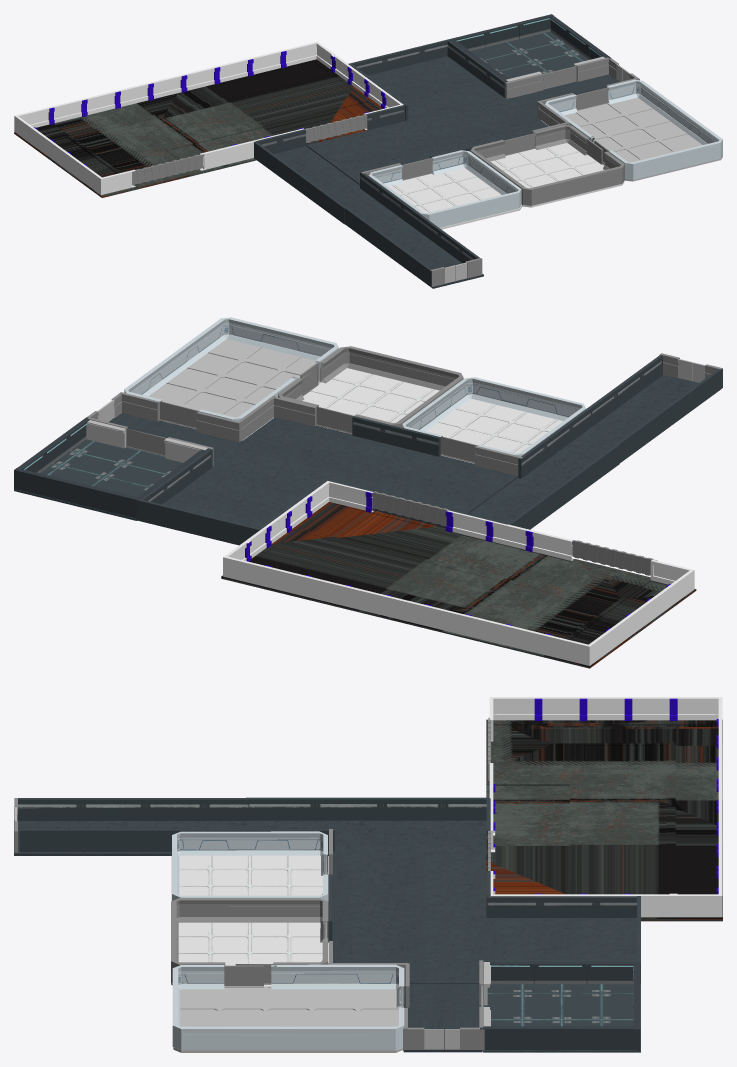
Rendered from Level_Full 2.FBX.
The picture shows the model from 3 angles, top to bottom: view 1: azimuth 30°, elevation 25°; view 2: azimuth 150°, elevation 25°; view 3: azimuth 270°, elevation 25°; orthographic projection. The views are drawn at different scales.
Parts seen in each view (by area): view 1: Box026, Box088, Labor_Boden_01, Box064, Labor_Wand_01, Flur_Boden_002, Flur_Boden_003, Flur_Boden_01, Labor_02, Labor_Wand_03, Labor_Boden_003, Box048 (+20 smaller); view 2: Box026, Box088, Flur_Boden_01, Labor_Boden_01, Box064, Flur_Boden_003, Labor_Wand_01, Box048, Flur_Boden_002, Labor_02, Labor_Boden_003, Labor_Boden_02 (+23 smaller); view 3: Box026, Labor_Wand_01, Flur_Boden_003, Box088, Labor_Boden_01, Flur_Boden_01, Box064, Box048, Flur_Boden_002, Labor_Boden_003, Labor_Boden_02, Flur_Wand_V2 (+11 smaller).
Boxes of the visible parts, box(x1,y1,x2,y2) form: Box026: box(14, 59, 382, 197); Box088: box(14, 41, 403, 194); Labor_Boden_01: box(564, 97, 722, 181); Box064: box(274, 146, 483, 288); Labor_Wand_01: box(545, 79, 722, 179); Flur_Boden_002: box(368, 56, 503, 121); Flur_Boden_003: box(306, 121, 449, 184); Flur_Boden_01: box(406, 97, 548, 151); Labor_02: box(369, 150, 521, 227); Labor_Wand_03: box(470, 125, 624, 205); Labor_Boden_003: box(490, 143, 624, 207); Box048: box(470, 31, 588, 78); Box026: box(221, 502, 696, 668); Box088: box(223, 481, 694, 665); Flur_Boden_01: box(212, 417, 394, 492); Labor_Boden_01: box(148, 339, 319, 429); Box064: box(469, 374, 720, 522); Flur_Boden_003: box(348, 446, 518, 527); Labor_Wand_01: box(124, 317, 338, 421); Box048: box(14, 439, 182, 520); Flur_Boden_002: box(137, 467, 306, 545); Labor_02: box(402, 377, 586, 456); Labor_Boden_003: box(302, 368, 439, 433); Labor_Boden_02: box(426, 398, 562, 463); Box026: box(486, 719, 722, 921); Labor_Wand_01: box(172, 964, 404, 1050); Flur_Boden_003: box(328, 851, 486, 916); Box088: box(489, 697, 722, 917); Labor_Boden_01: box(173, 986, 402, 1052); Flur_Boden_01: box(332, 916, 487, 983); Box064: box(14, 820, 487, 855); Box048: box(483, 984, 640, 1052); Flur_Boden_002: box(483, 916, 636, 959); Labor_Boden_003: box(171, 922, 328, 986); Labor_Boden_02: box(171, 855, 328, 901); Flur_Wand_V2: box(246, 797, 489, 820).
Size of the model in its own units: 99.76 by 3.48 by 89.89.
